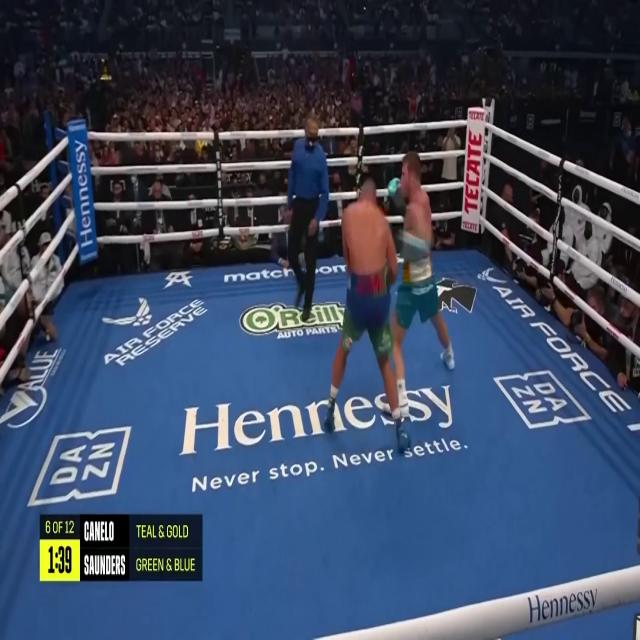boxer_1: (344, 181, 387, 275)
boxer_2: (401, 152, 432, 240)
gloves_1: (385, 266, 392, 286)
gloves_2: (396, 232, 430, 264), (388, 179, 405, 211)
